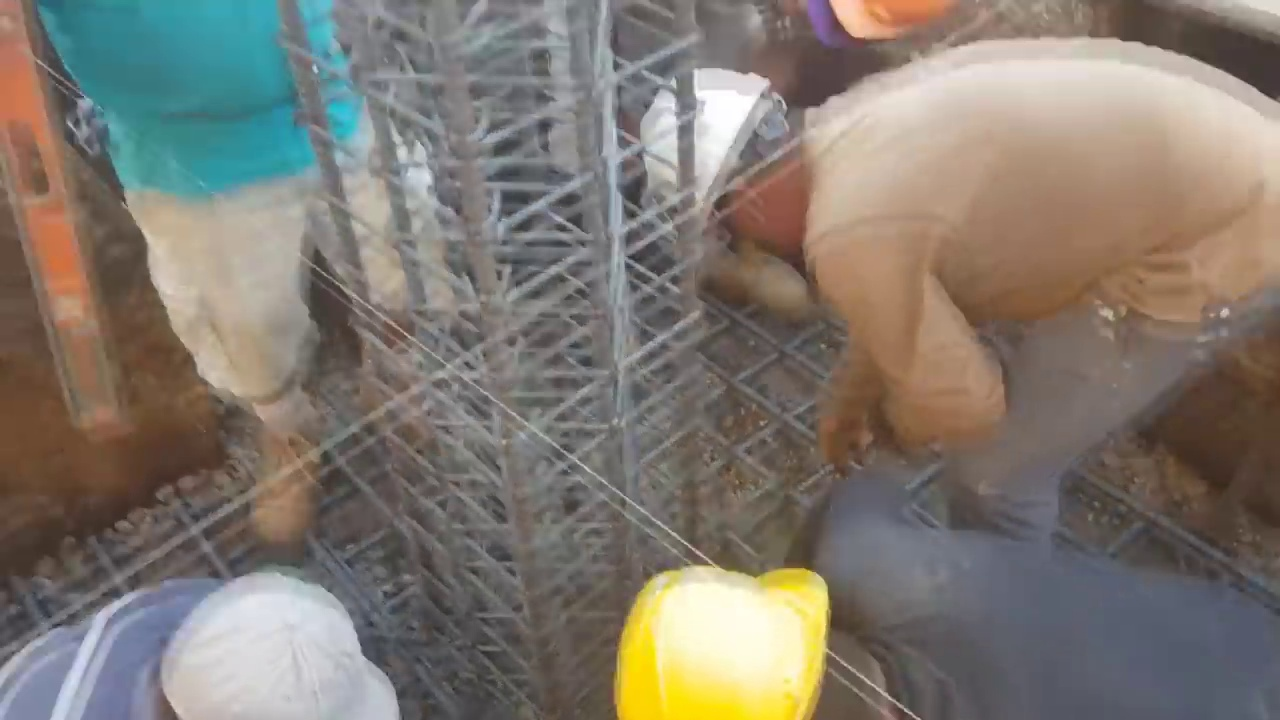helmet: (617, 577, 829, 718), (631, 74, 768, 242)
helmet-off: (153, 593, 388, 720)
helmet-on: (615, 558, 898, 717), (628, 81, 821, 251)
person: (617, 38, 1280, 539), (39, 0, 460, 539), (614, 455, 1274, 716), (0, 567, 405, 719)
